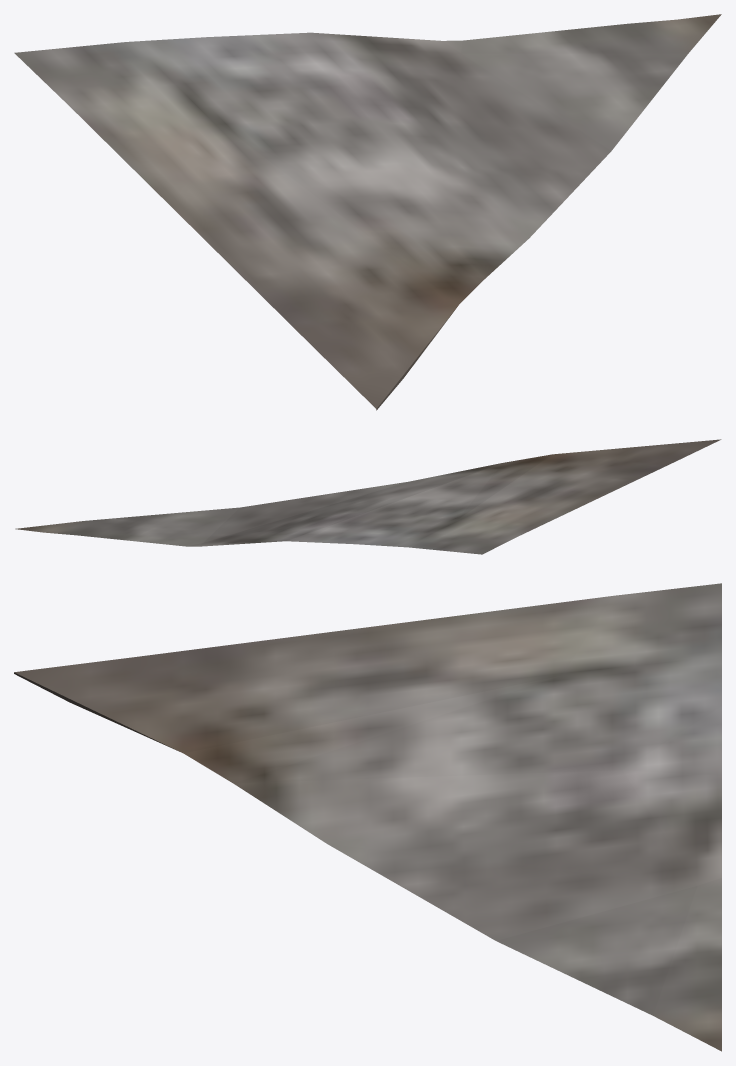
3 renders of one model, top to bottom at view 1: azimuth 30°, elevation 25°; view 2: azimuth 150°, elevation 25°; view 3: azimuth 270°, elevation 25°, orthographic. The views are drawn at different scales.
Size of the model in its own units: 1.76 by 0.3179 by 1.56.
1 material, 1 textured.
